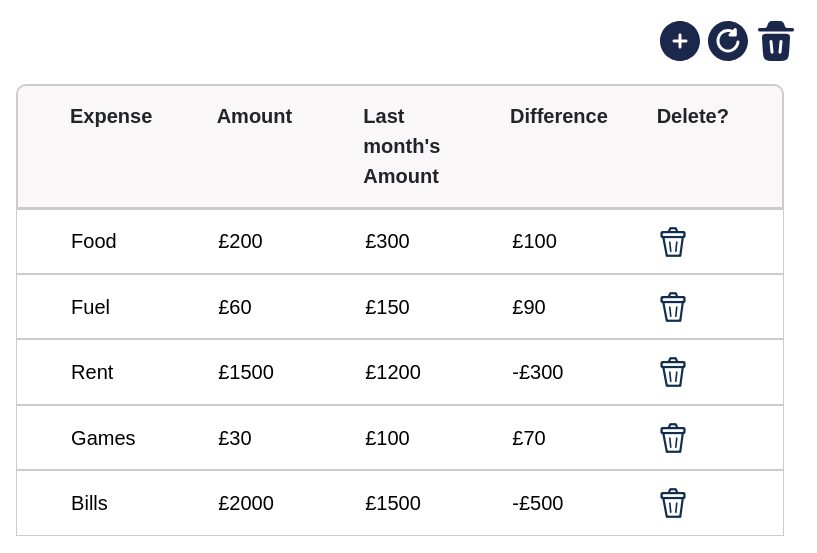
Test case: Delete button
Check: the number of elements with test id "expense-row" is 5, box [16,208,784,274]; [16,274,784,339]; [16,339,784,405]; [16,405,784,470]; [16,470,784,536]
Step 1. Click the icon with test id "delete-table" → coordinates (776, 41), box [752,17,800,65]
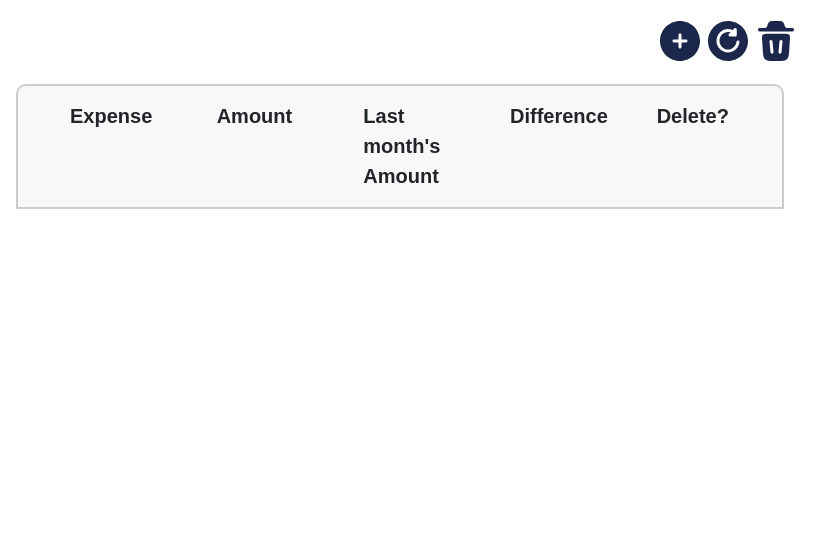
Check: no elements with test id "expense-row" are shown
